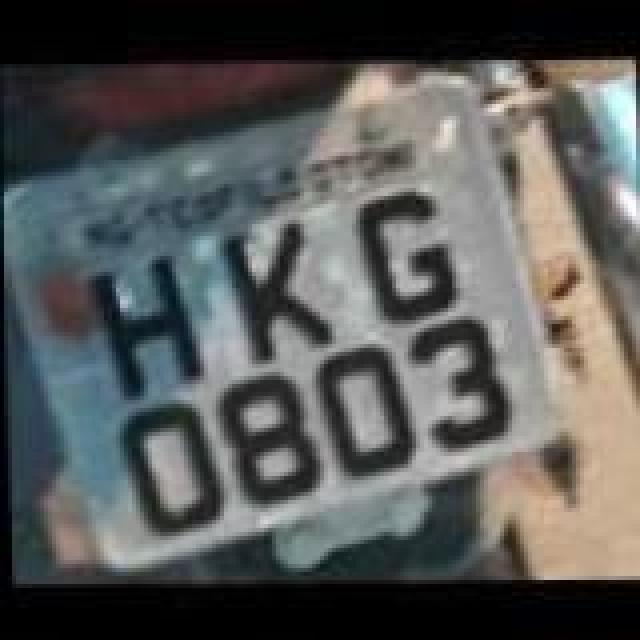3: (410, 314, 514, 454)
8: (220, 376, 324, 508)
G: (352, 184, 464, 320)
H: (92, 250, 204, 398)
K: (226, 216, 342, 364)
O: (310, 342, 422, 478), (118, 398, 226, 534)
